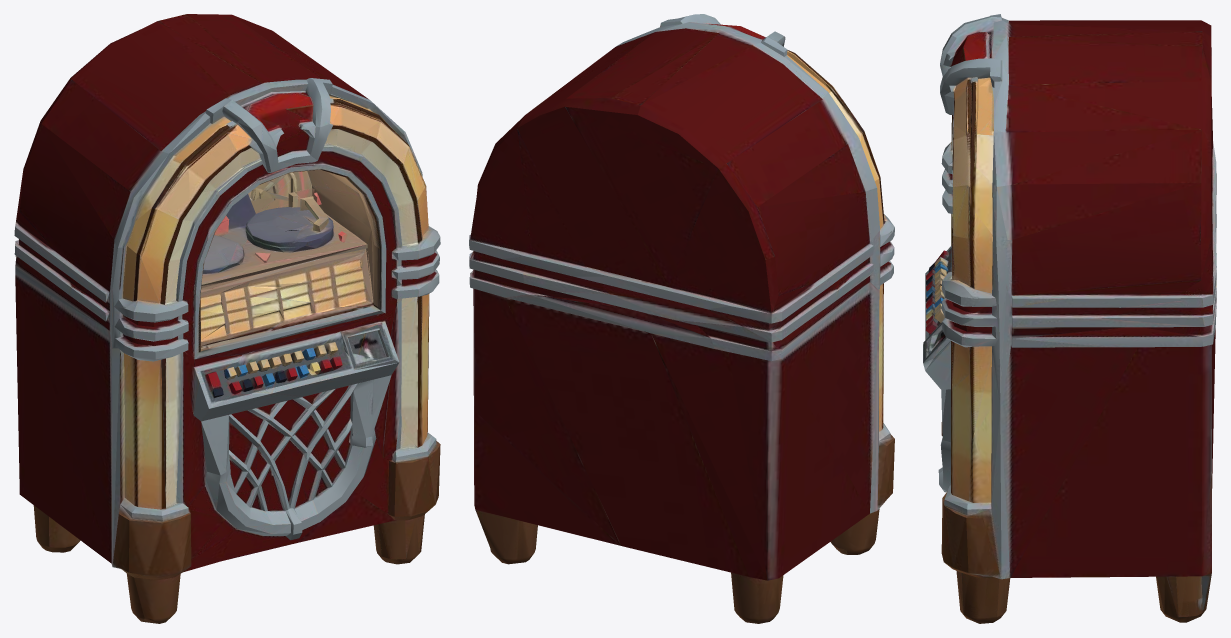
File: jukebox.glb
3 views of the same model, side by side, from view 1: azimuth 30°, elevation 25°; view 2: azimuth 150°, elevation 25°; view 3: azimuth 270°, elevation 25° (orthographic). The views are drawn at different scales.
Bounding box in the file's own units: 1.26 × 1.9 × 0.9745.
1 material, 1 textured.
